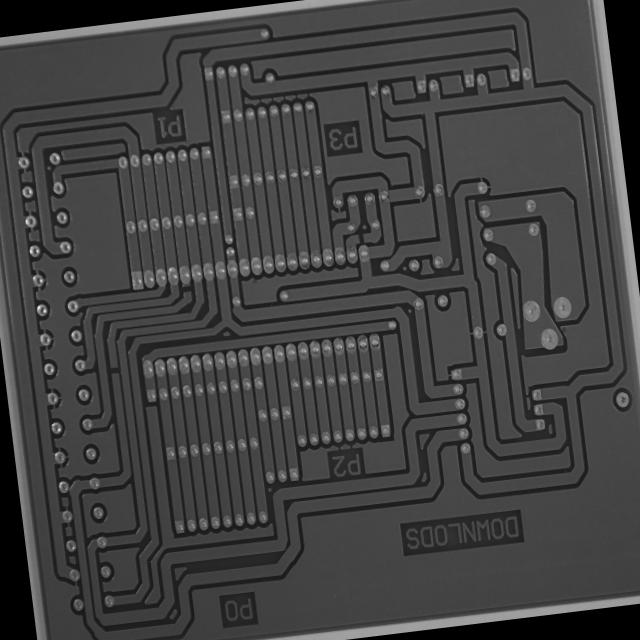open_circuit: (107, 362, 121, 377), (354, 229, 367, 245), (180, 282, 193, 294)
